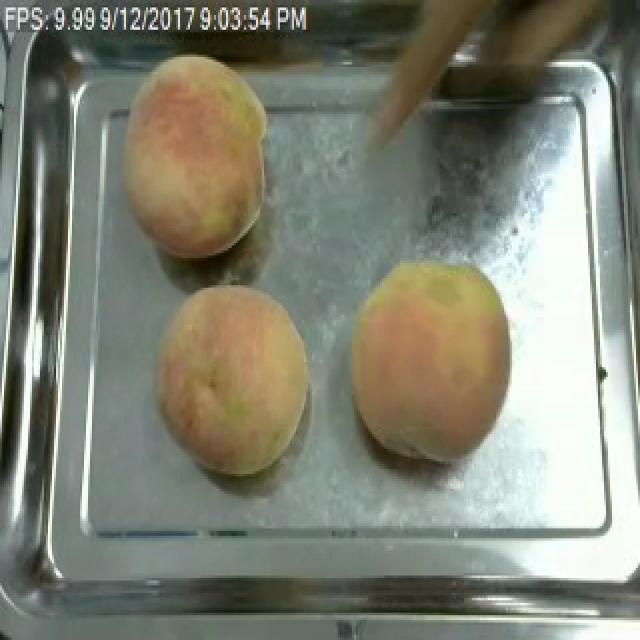Fruit: (340, 248, 522, 469), (108, 44, 280, 266), (146, 276, 320, 482)
